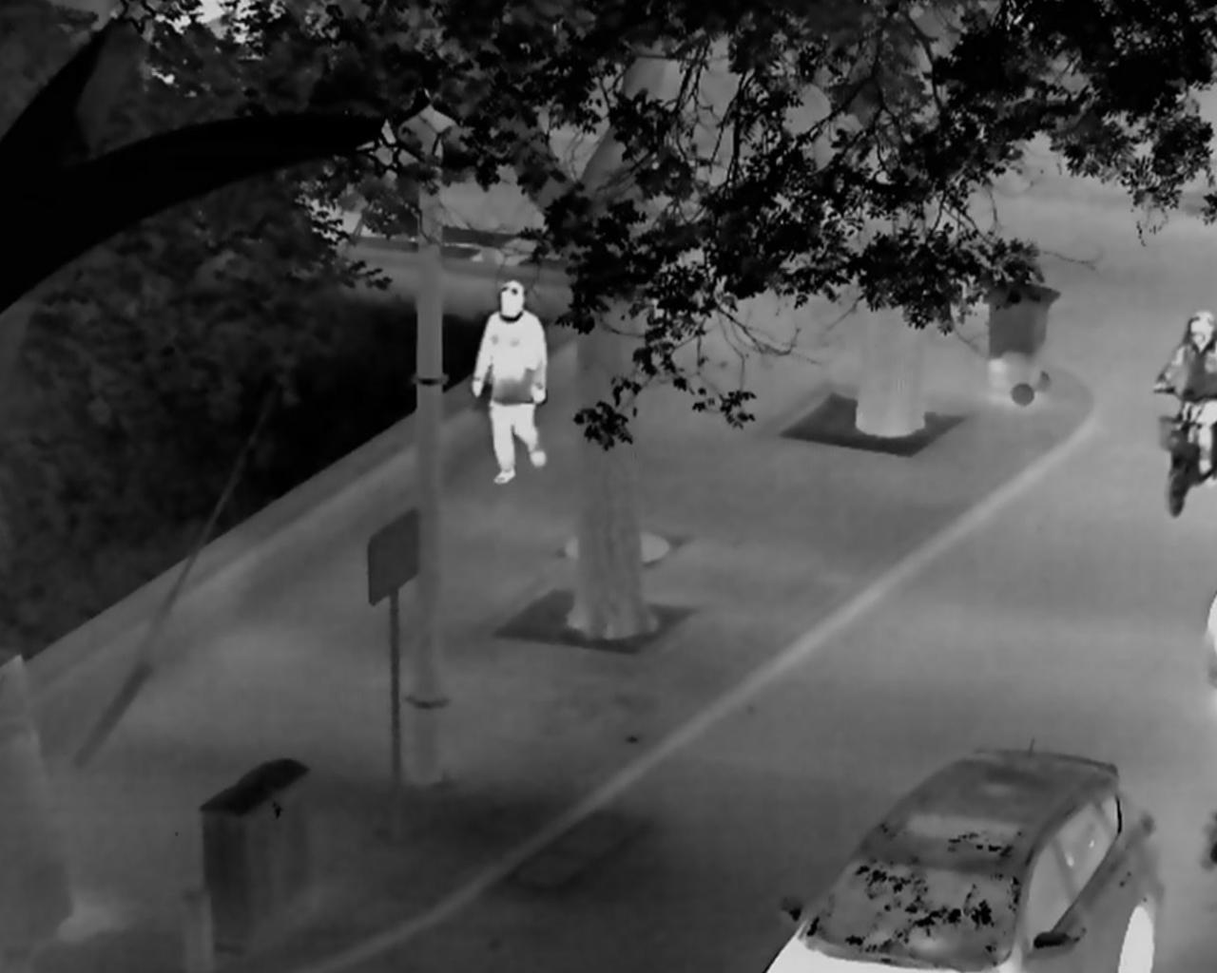person: (472, 278, 551, 485), (1153, 308, 1217, 518)
